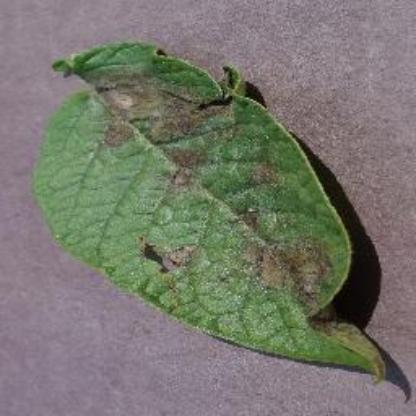Late-Blight: (33, 42, 391, 384)
